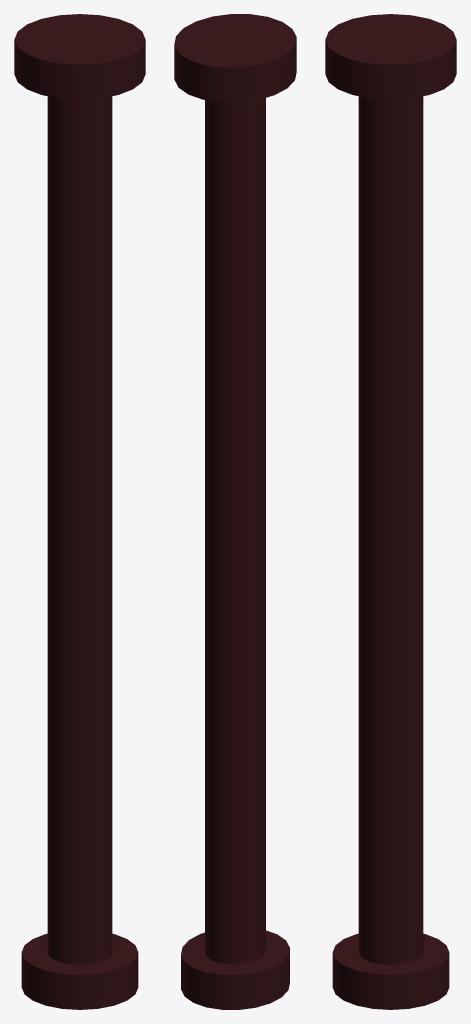
Rendered from CargoBay_Pipe3.obj.
The picture shows the model from 3 angles, left to right: view 1: azimuth 90°, elevation 25°; view 2: azimuth 150°, elevation 25°; view 3: azimuth 270°, elevation 25°; orthographic projection.
Visible parts, largest first — view 1: default; view 2: default; view 3: default.
Part boxes in pixels (bbox=[...]): default: bbox=[14, 14, 145, 1009]; default: bbox=[174, 14, 296, 1009]; default: bbox=[325, 14, 456, 1009].
Size of the model in its own units: 7.86 by 68.39 by 8.57.
